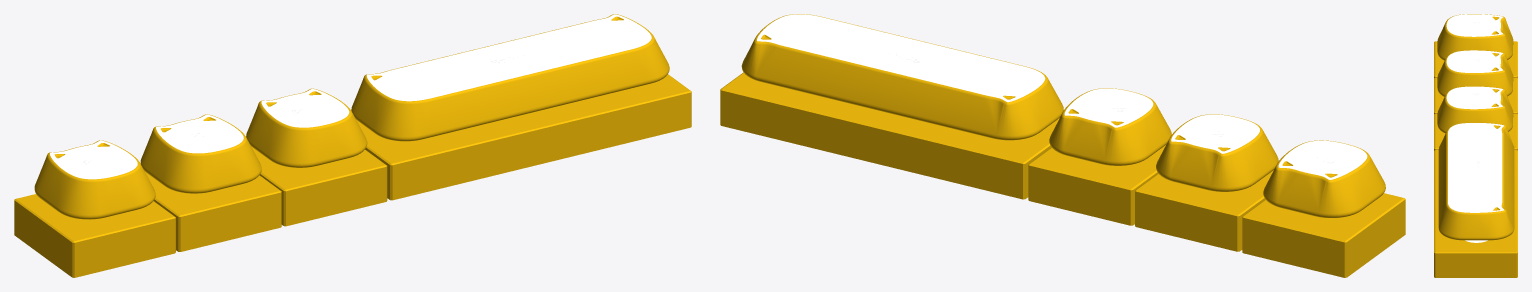
File: Key_Ver3.glb
The picture shows the model from 3 angles, left to right: view 1: azimuth 30°, elevation 25°; view 2: azimuth 150°, elevation 25°; view 3: azimuth 270°, elevation 25°; orthographic projection. The views are drawn at different scales.
Parts seen in each view (by area): view 1: Key4, Base4, Base1, Key1, Key2, Key3, Base3, Base2; view 2: Key4, Base4, Base1, Key1, Key3, Key2, Base2, Base3; view 3: Key4, Base4, Key3, Key1, Key2, Base3, Base1, Base2.
Boxes of the visible parts, box(x1,y1,x2,y2) form: Key4: box(351, 14, 669, 141); Base4: box(356, 74, 691, 200); Base1: box(14, 194, 175, 277); Key1: box(34, 140, 155, 219); Key2: box(140, 114, 261, 193); Key3: box(246, 88, 367, 167); Base3: box(251, 147, 387, 226); Base2: box(145, 172, 281, 251); Key4: box(741, 14, 1063, 140); Base4: box(720, 72, 1059, 199); Base1: box(1242, 193, 1405, 277); Key1: box(1263, 140, 1385, 217); Key3: box(1049, 88, 1171, 165); Key2: box(1156, 114, 1278, 191); Base2: box(1135, 170, 1273, 251); Base3: box(1028, 145, 1165, 225); Key4: box(1438, 122, 1514, 240); Base4: box(1434, 150, 1517, 277); Key3: box(1437, 86, 1513, 133); Key1: box(1437, 14, 1513, 60); Key2: box(1437, 50, 1513, 96); Base3: box(1434, 113, 1517, 150); Base1: box(1434, 41, 1517, 77); Base2: box(1434, 77, 1517, 113).
Size of the model in its own units: 4.05 by 0.5248 by 0.6776.
6 materials, 4 textured.
